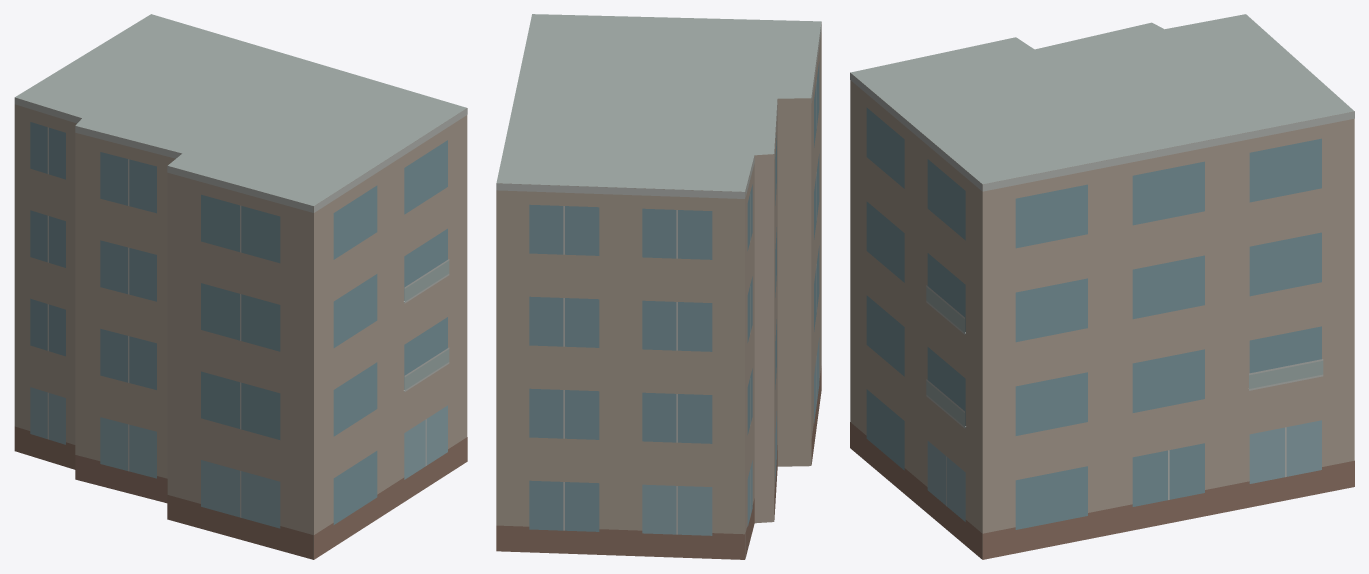
Rendered from survey-upis-32943016.glb.
The picture shows the model from 3 angles, left to right: view 1: azimuth 30°, elevation 25°; view 2: azimuth 150°, elevation 25°; view 3: azimuth 270°, elevation 25°; orthographic projection. The views are drawn at different scales.
Visible parts, largest first — view 1: survey-upis-32943016.tmp; view 2: survey-upis-32943016.tmp; view 3: survey-upis-32943016.tmp.
Boxes of the visible parts, x1,y1,x2,y2 form: survey-upis-32943016.tmp: (14,14,467,559); survey-upis-32943016.tmp: (496,14,821,559); survey-upis-32943016.tmp: (850,14,1354,559).
Size of the model in its own units: 12.17 by 12.5 by 15.23.
